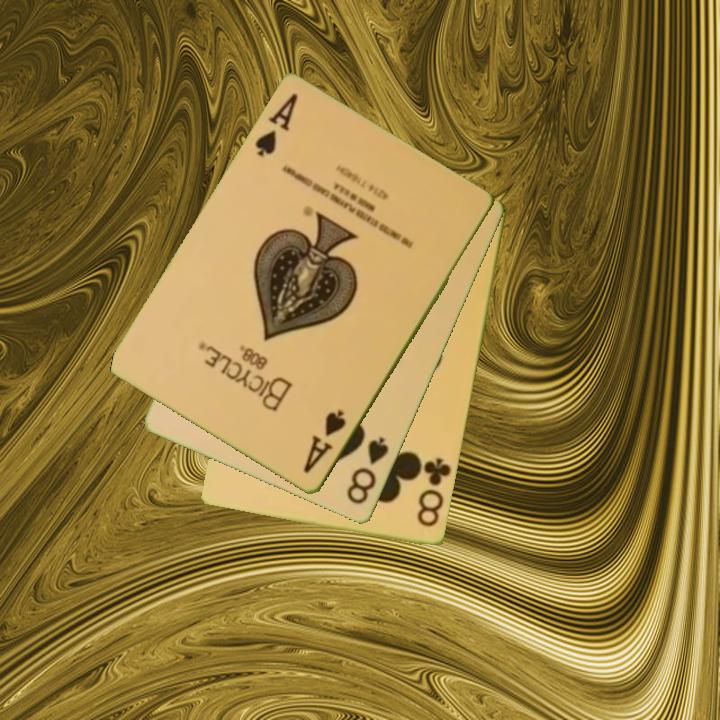8c: (414, 454, 455, 531)
8s: (343, 434, 392, 508)
As: (299, 407, 350, 478), (251, 90, 301, 161)
